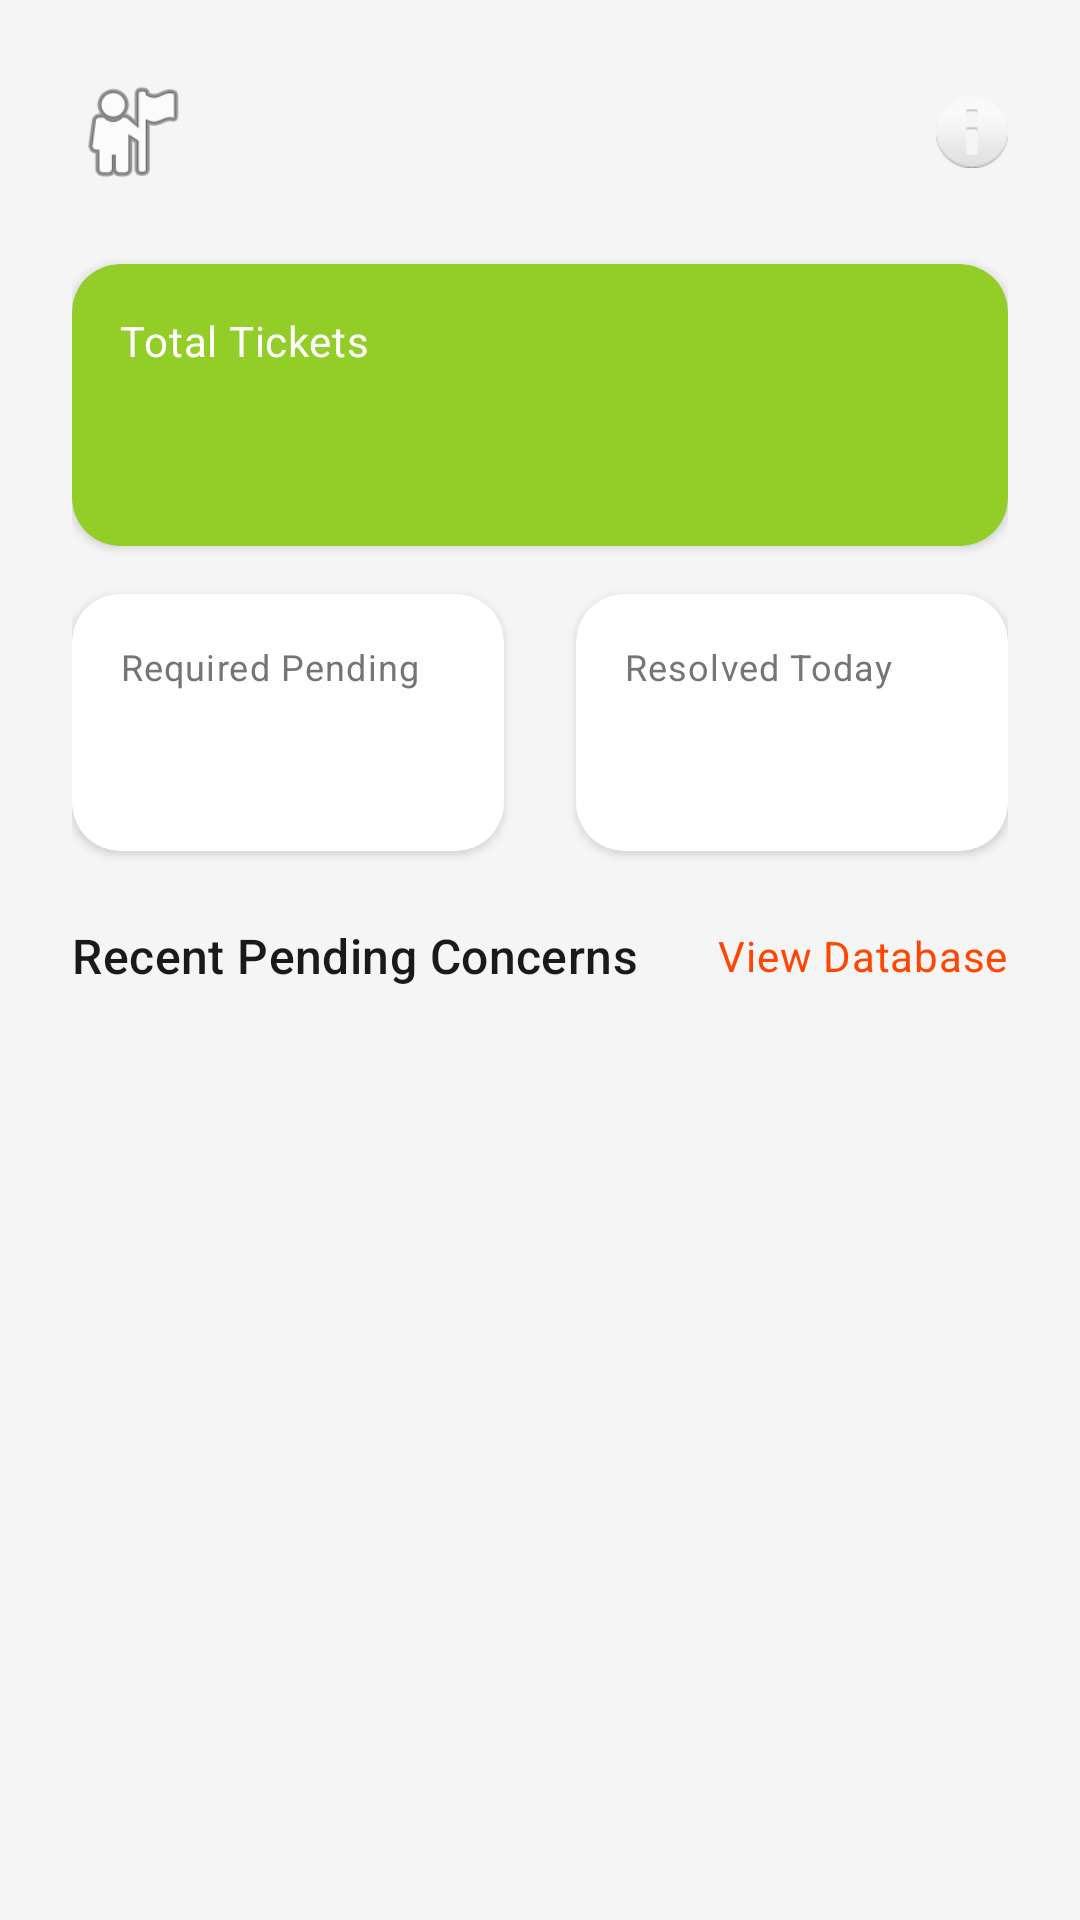

Icon bounding boxes for this 1080×1920 phone screenshot, format (x1, y1, x2, y2):
Admin avatar: (88, 87, 178, 177)
